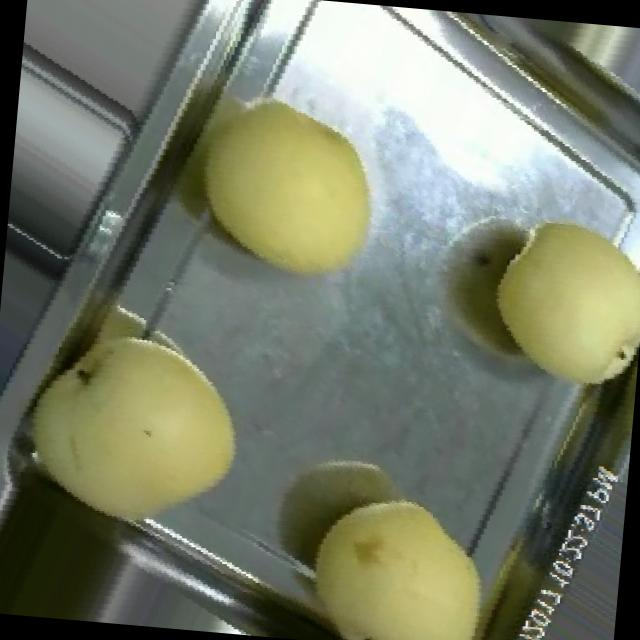Fruit: (0, 266, 283, 563), (156, 51, 419, 314), (279, 460, 522, 640), (465, 191, 640, 411)
